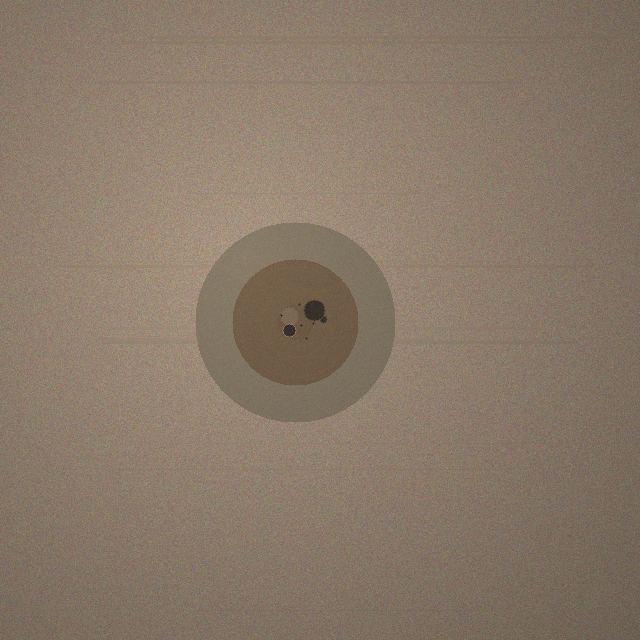shrinkage: (195, 222, 395, 422)
